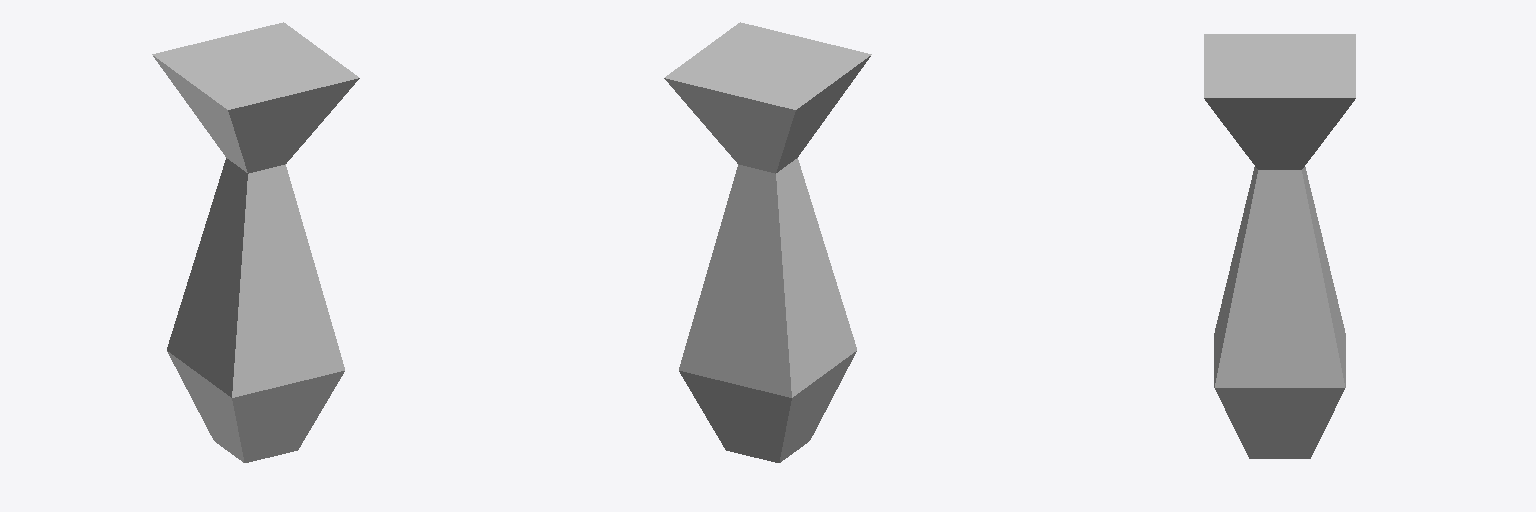
Rendered from Overhang6.obj.
3 renders of one model, left to right at view 1: azimuth 30°, elevation 25°; view 2: azimuth 150°, elevation 25°; view 3: azimuth 270°, elevation 25°, orthographic.
Parts seen in each view (by area): view 1: Overhang6; view 2: Overhang6; view 3: Overhang6.
Boxes of the visible parts, <box> form: Overhang6: <box>152,22,359,462</box>; Overhang6: <box>664,22,871,462</box>; Overhang6: <box>1204,34,1355,458</box>.
Size of the model in its own units: 3.5 by 9.6 by 3.5.